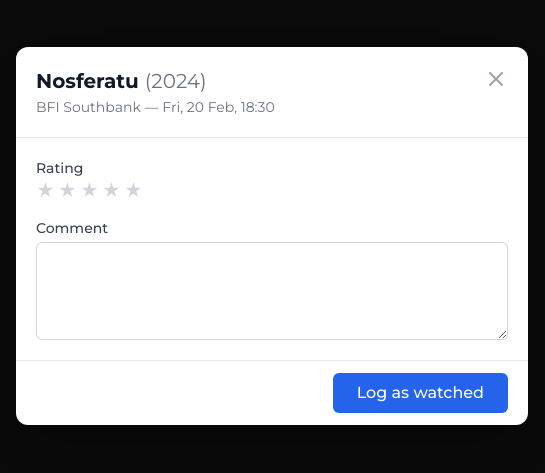
Scenario: LogViewingModal › shows an error message on failure
Click the button "Log as watched" at (420,393), box top-left (333, 373), bottom-right (508, 413)
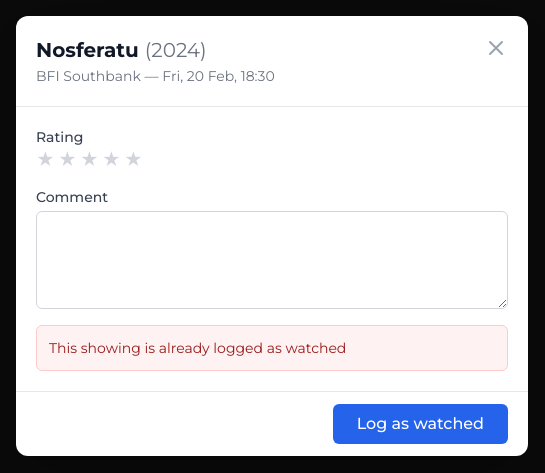
Check: the text "This showing is already logged as watched" is shown, box top-left (49, 339), bottom-right (346, 357)
